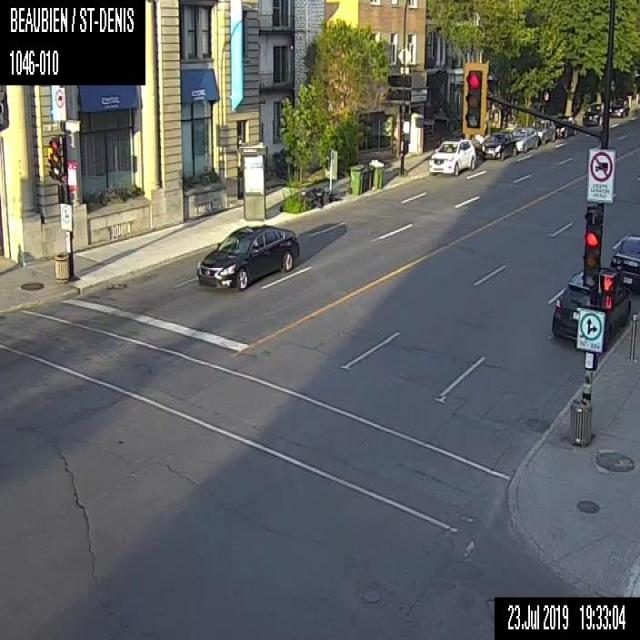vehicle: (196, 222, 299, 290), (550, 265, 631, 351), (428, 136, 476, 176), (610, 234, 639, 294), (479, 131, 516, 160), (512, 127, 538, 151), (531, 118, 555, 144), (581, 102, 602, 125), (554, 115, 576, 136), (608, 96, 629, 117)
